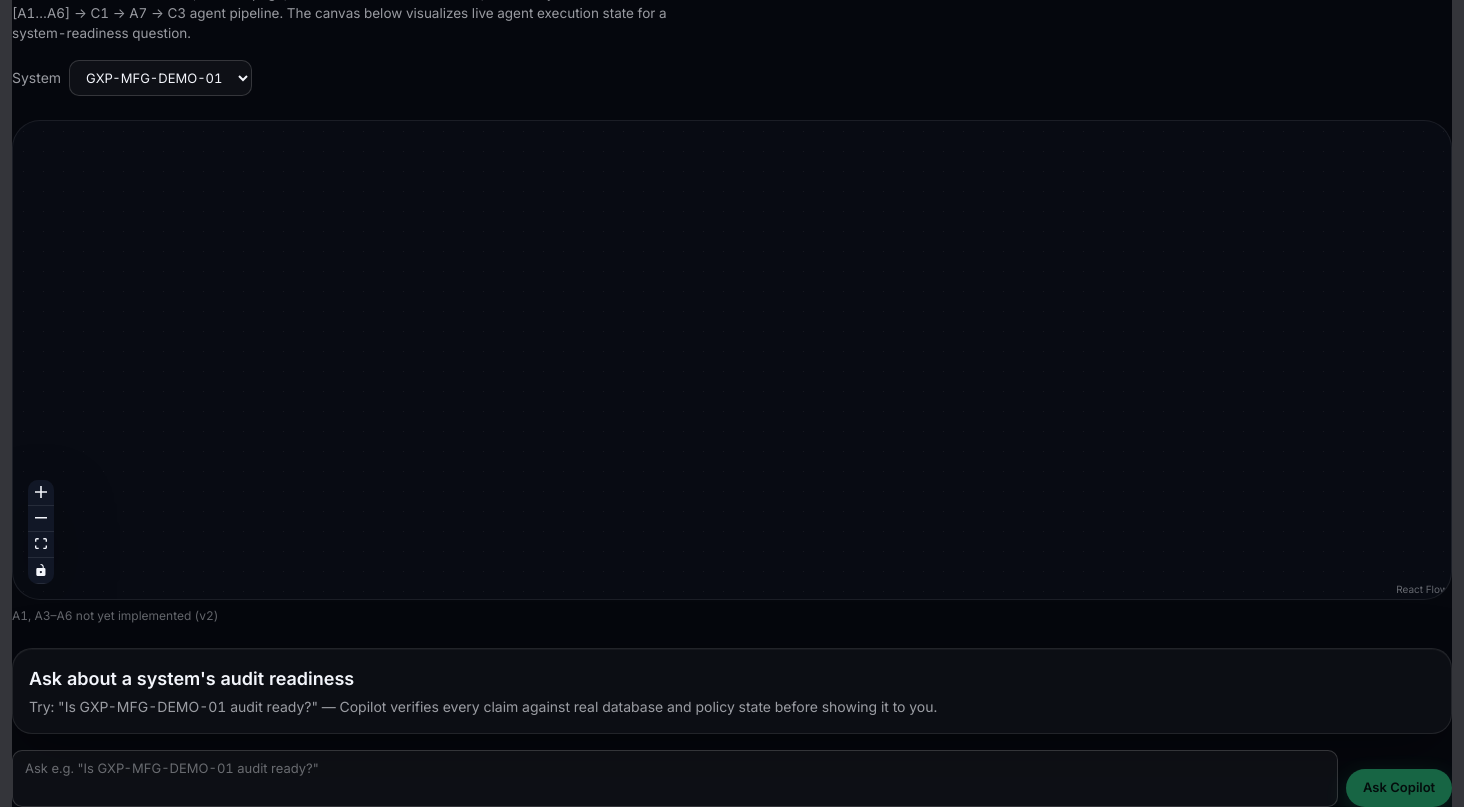
Test: Copilot hero query › disables the submit button for the whole in-flight duration, preventing a second submit via the UI
(page scrolled)
Type "Is GXP-MFG-DEMO-01 audit ready?" into the text box with placeholder "Ask e.g. \"Is GXP-MFG-DEMO-01 audit ready?\"".
click(675, 778); type("Is GXP-MFG-DEMO-01 audit ready?")  # box [12, 750, 1338, 806]
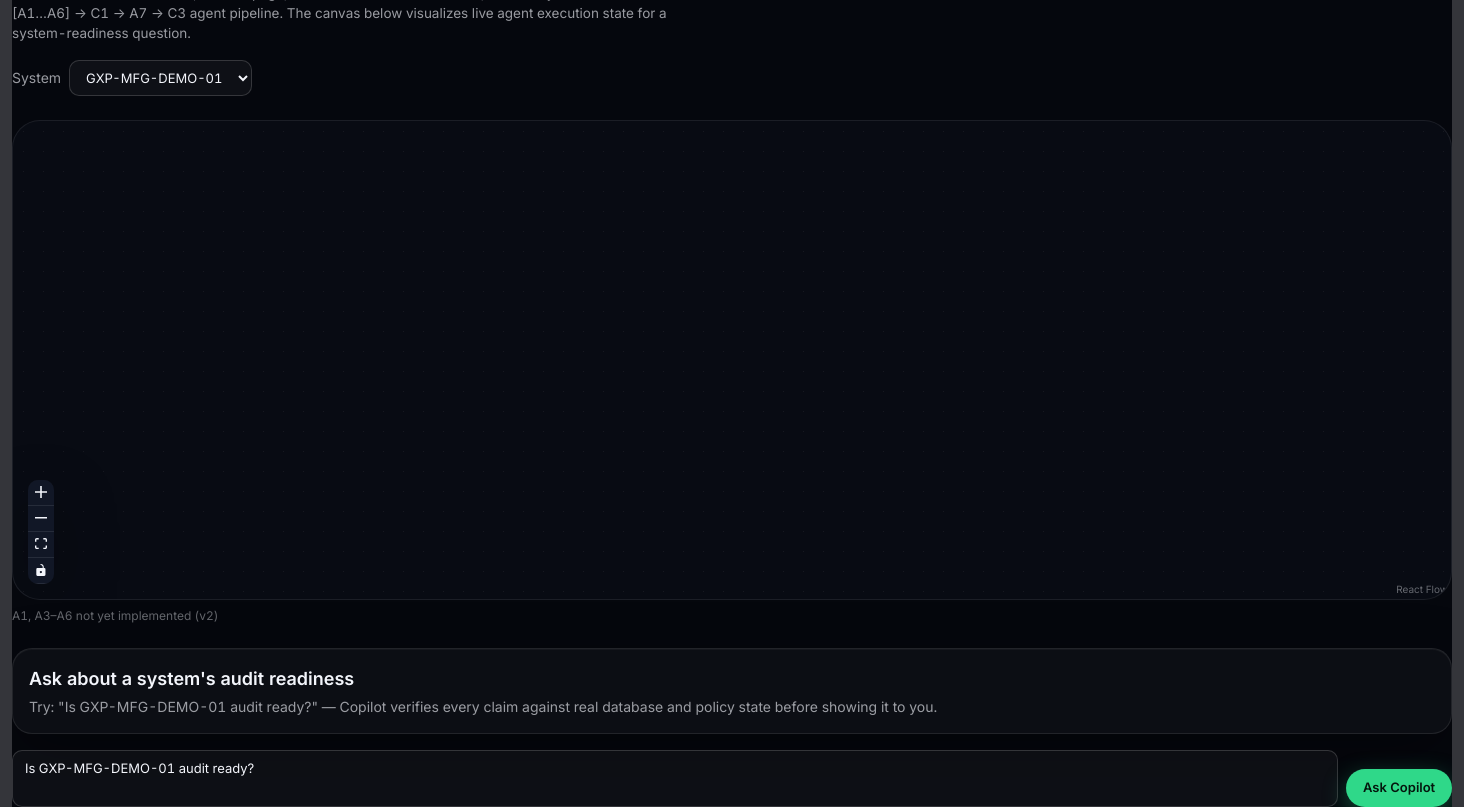
Click the button "Ask Copilot".
click(1399, 788)  # box [1346, 769, 1452, 806]
(page scrolled)
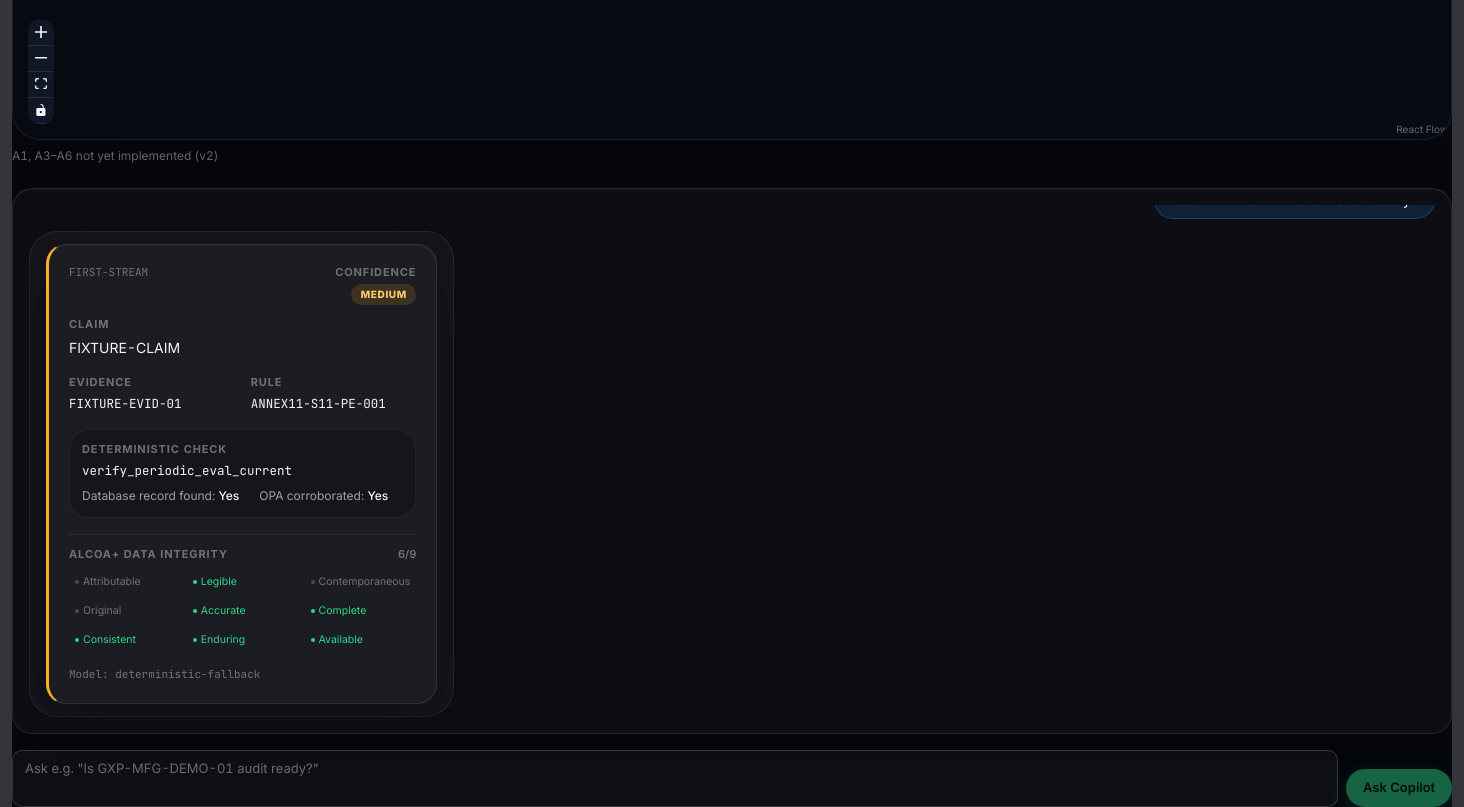
Expected: the button named "Investigating…" is disabled, [1346, 769, 1452, 806]
